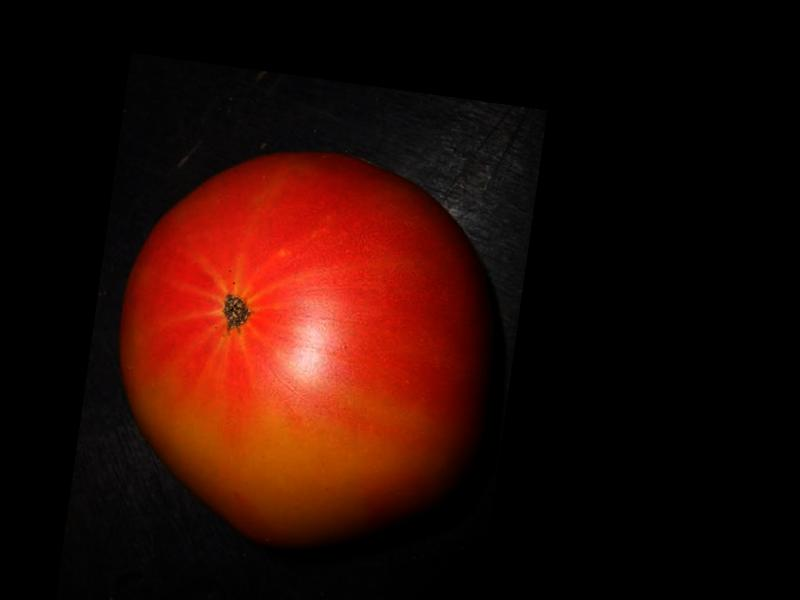Tomato: (93, 127, 521, 568)
